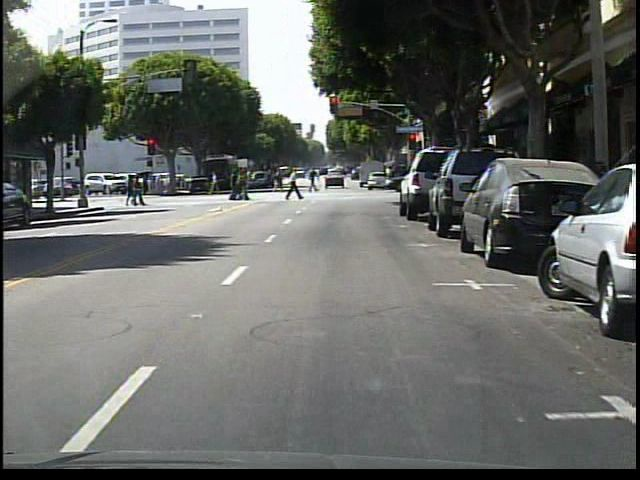person: (283, 166, 305, 204), (203, 167, 223, 197), (303, 167, 322, 196)
